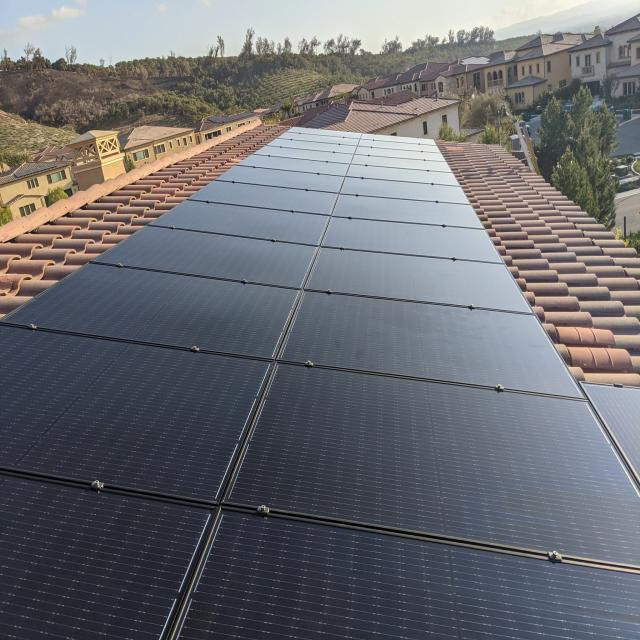clean-solar-panel: (0, 128, 640, 638)
